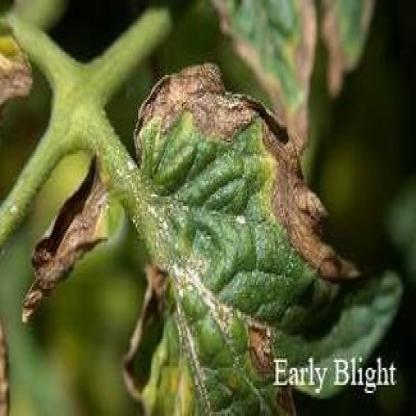Tomato Early blight leaf: (136, 69, 372, 414)
